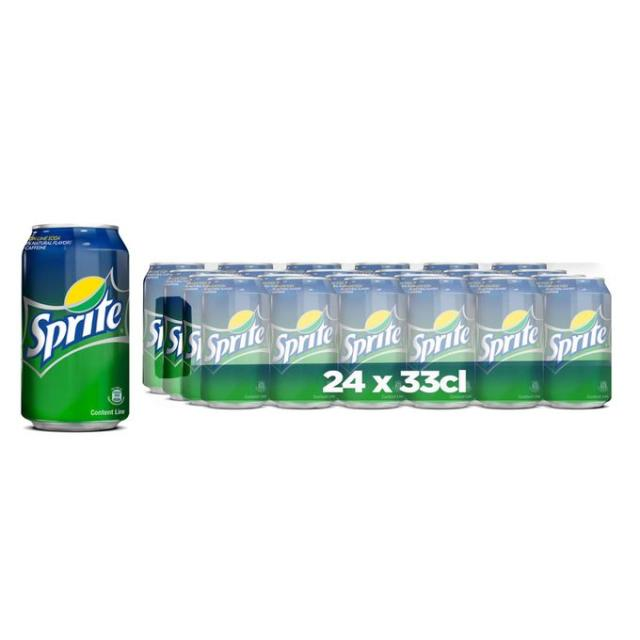sprite: (23, 226, 131, 438), (470, 272, 546, 408), (266, 278, 336, 424), (198, 273, 264, 414), (398, 278, 473, 394), (548, 271, 612, 394), (162, 266, 208, 415), (334, 284, 395, 390)
